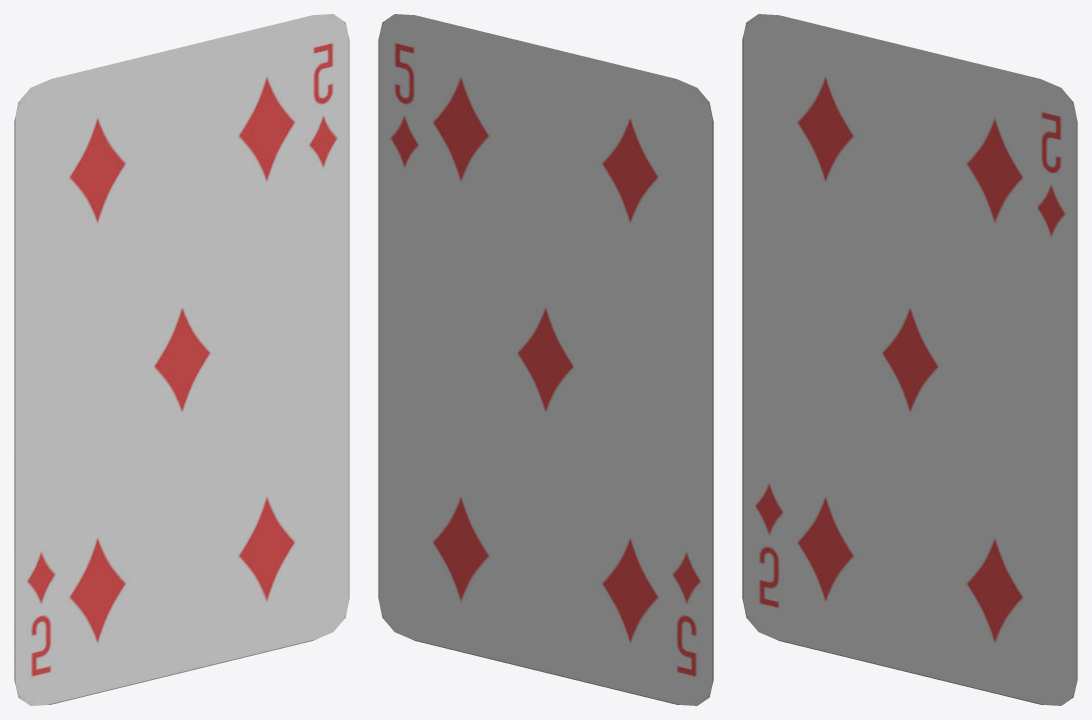
File: 5_diamonds.glb
3 renders of one model, left to right at view 1: azimuth 30°, elevation 25°; view 2: azimuth 150°, elevation 25°; view 3: azimuth 330°, elevation 25°, orthographic.
Visible parts, largest first — view 1: Five of Diamonds_18_0; view 2: Five of Diamonds_18_0; view 3: Five of Diamonds_18_0.
Boxes of the visible parts, bbox=[...] form: Five of Diamonds_18_0: bbox=[14, 14, 349, 705]; Five of Diamonds_18_0: bbox=[378, 14, 713, 705]; Five of Diamonds_18_0: bbox=[742, 14, 1077, 705].
Bounding box in the file's own units: 0.2527 × 0.4503 × 2.78e-17.
Materials: 1 (1 with a texture image).
